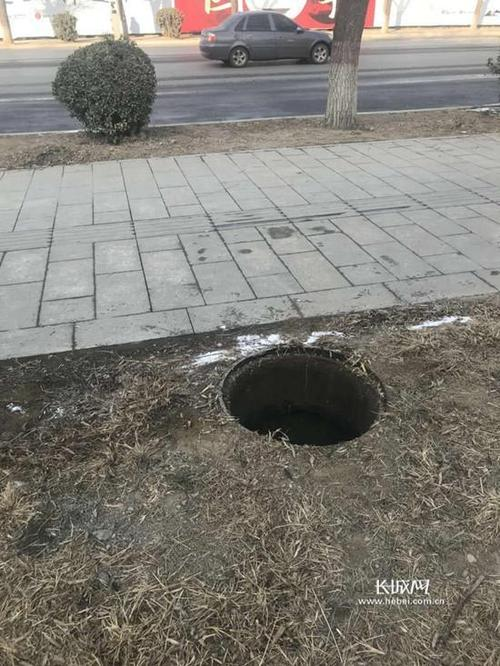lose: (189, 331, 404, 464)
